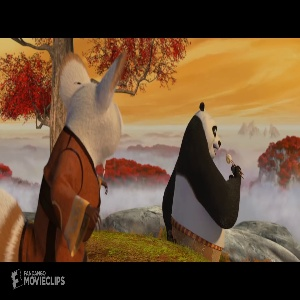po: (159, 98, 245, 261)
shifu: (1, 50, 130, 261)
